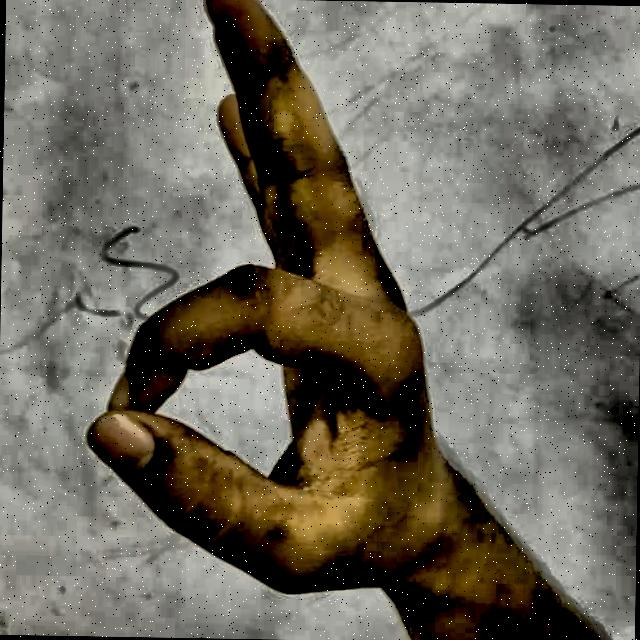Ca: (58, 1, 564, 640)
